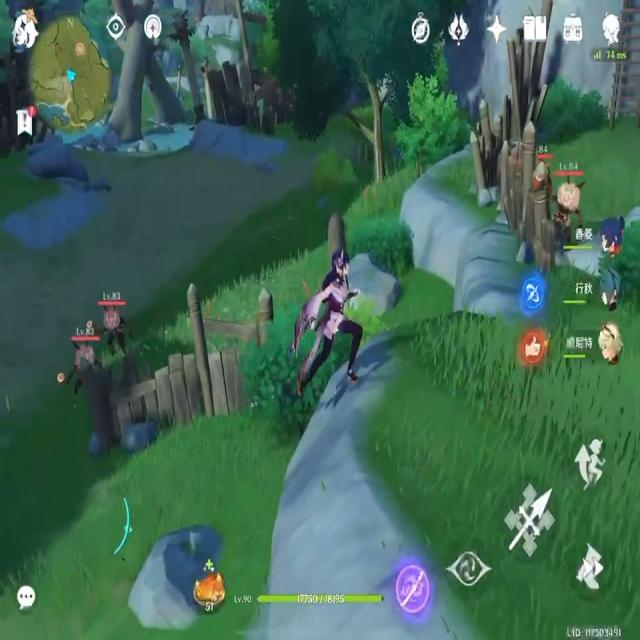genshin-hilichurls: (553, 166, 583, 246), (98, 293, 134, 353), (65, 331, 99, 382)
